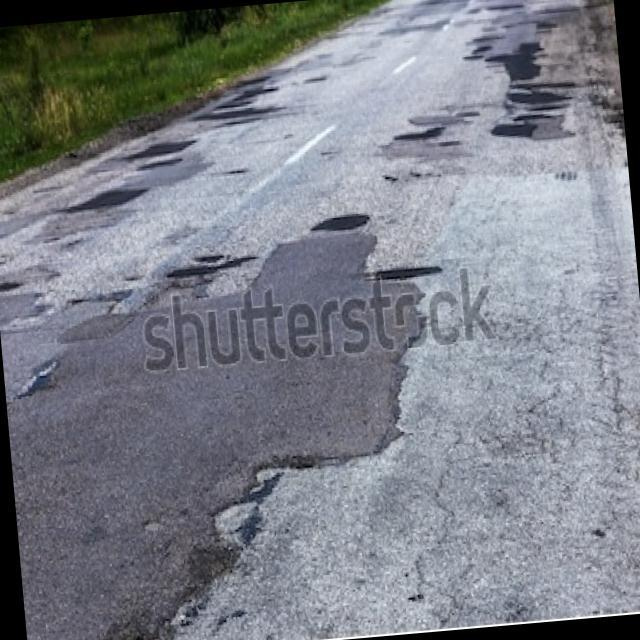Pothole: (168, 252, 256, 288), (370, 252, 448, 292), (68, 182, 148, 215), (310, 206, 374, 246), (493, 114, 538, 150), (393, 121, 449, 148)
